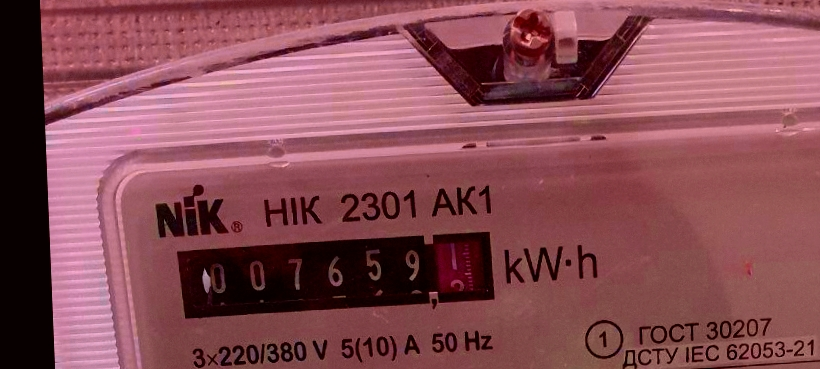0: (245, 256, 270, 293), (206, 257, 229, 297)
1: (444, 237, 462, 273)
5: (363, 245, 384, 283)
6: (323, 251, 346, 288)
7: (283, 253, 305, 292)
9: (401, 245, 423, 283)
screen: (167, 224, 505, 327)
